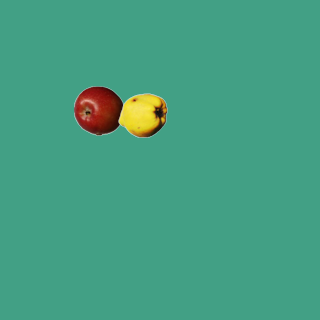Apple Braeburn: (73, 85, 123, 135)
Quince: (117, 90, 167, 140)
